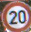20 km speed: (1, 1, 30, 32)
